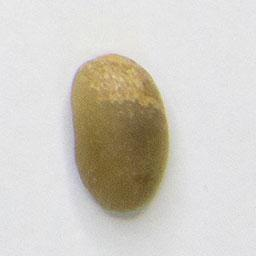longberry: (66, 50, 174, 217)
